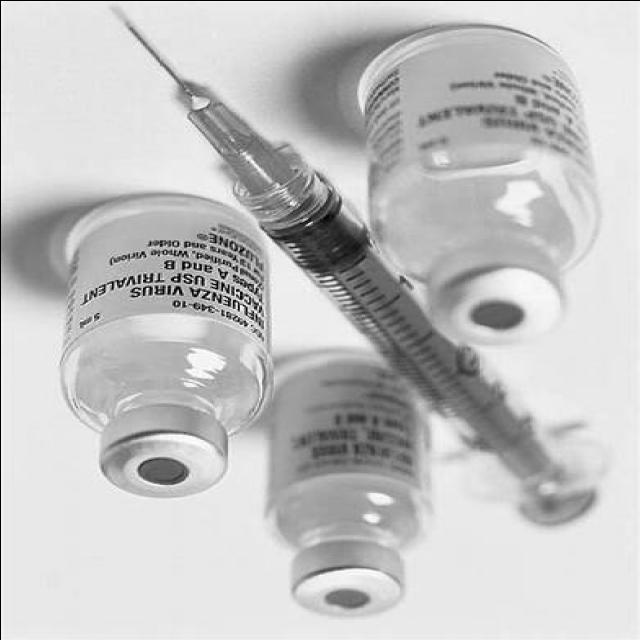vial: (412, 268, 564, 346), (87, 432, 226, 493), (285, 552, 403, 616)
